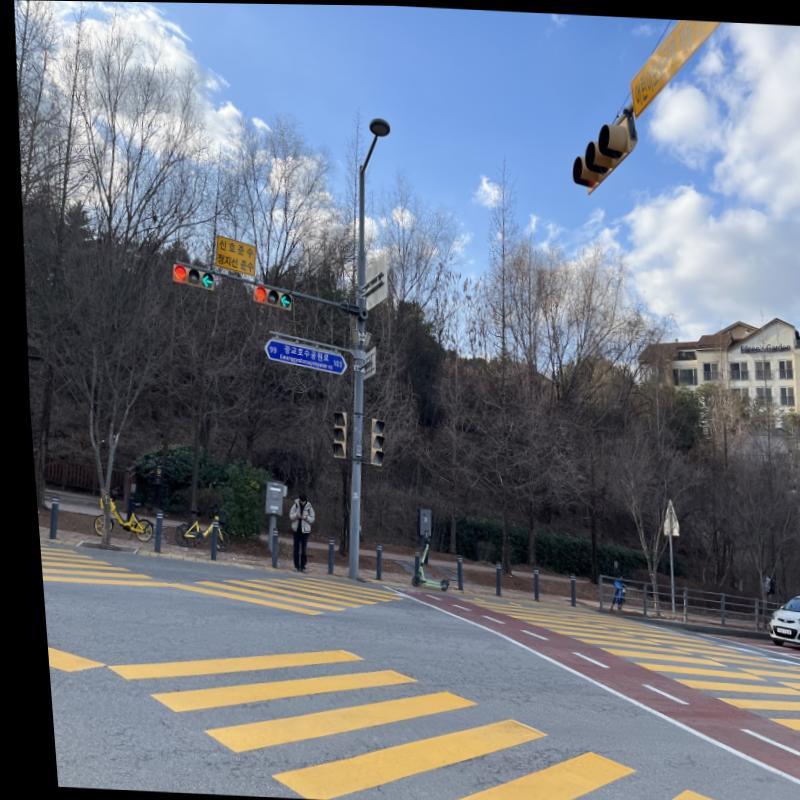left: (197, 273, 209, 288), (275, 293, 286, 308)
red: (170, 264, 182, 282), (249, 286, 262, 302)
